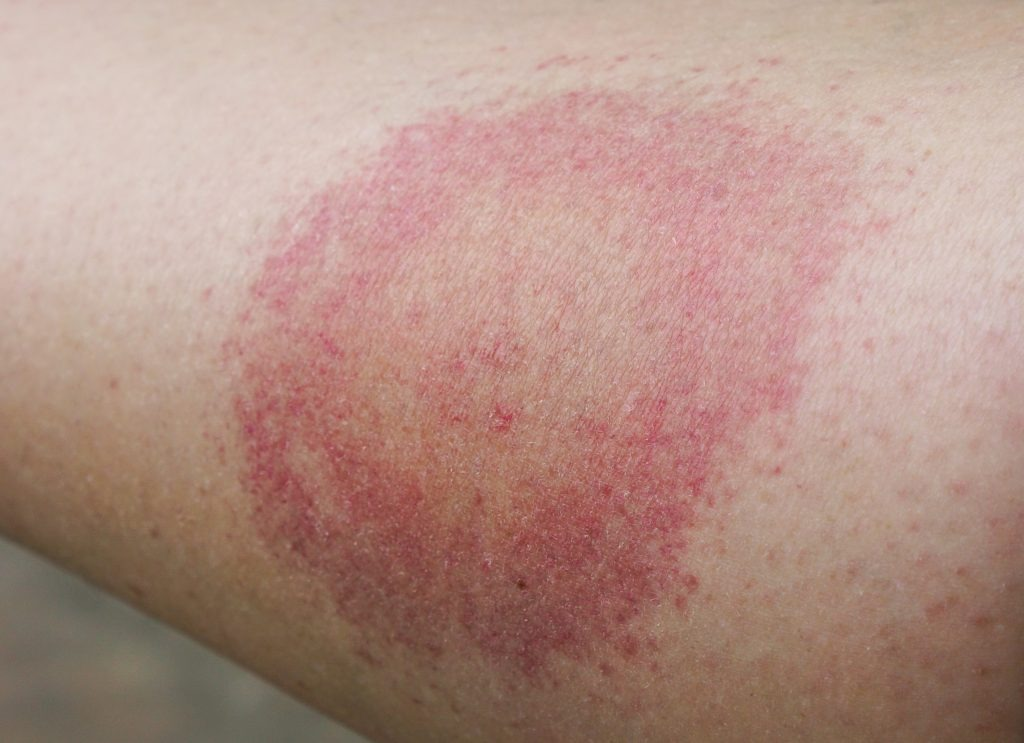Ringworm: (211, 34, 900, 666)
